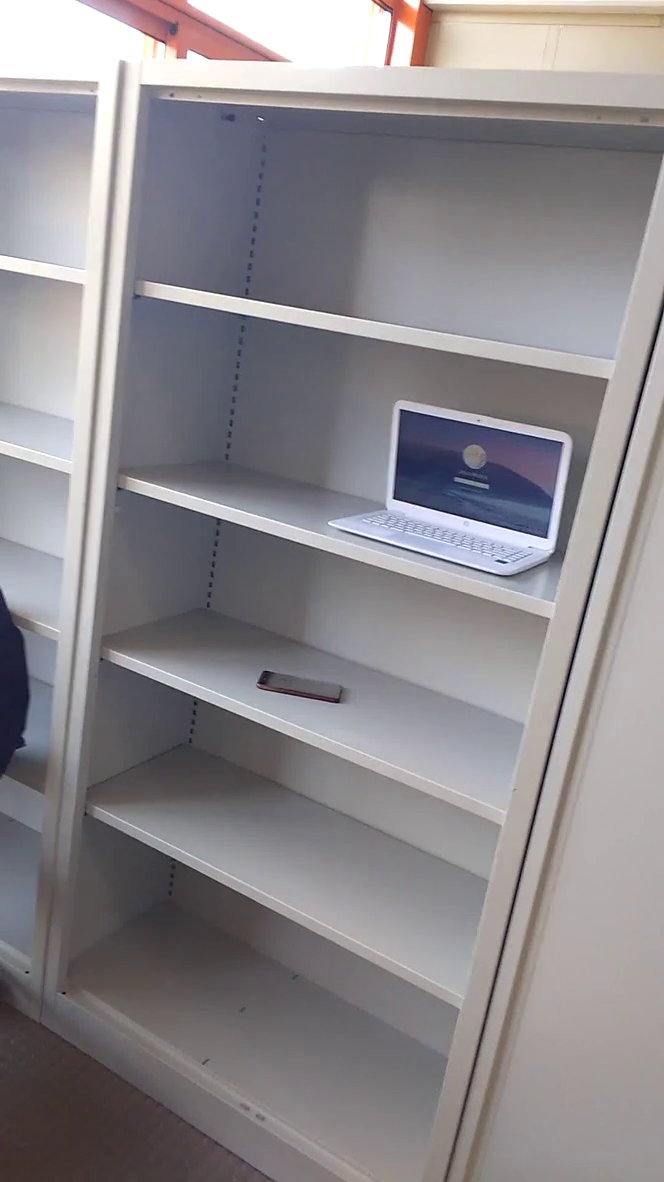laptop: (320, 390, 585, 592)
phone: (249, 664, 353, 713)
